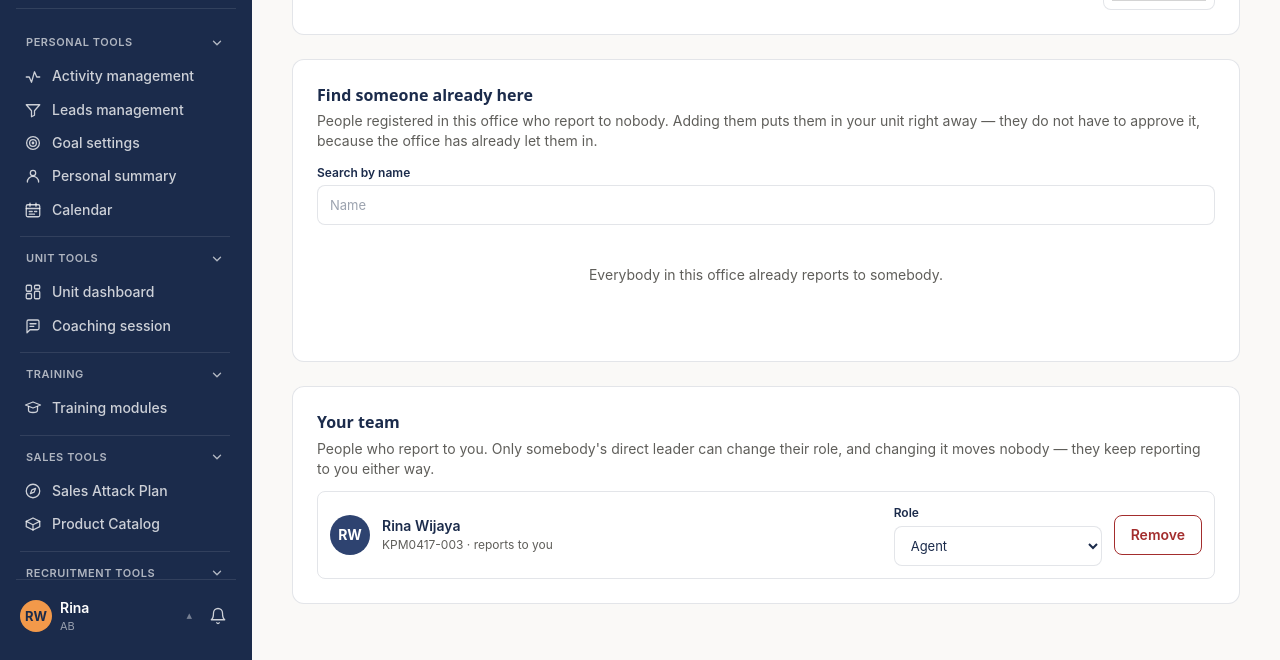
inviting people (P3-T4) › removing somebody (P3-T7) › says what removal does and does not do, in the prototype own words
(page scrolled)
What coordinates should you click on to do the following:
click the button with aria-label "Remove Rina Wijaya"
I would click on:
 (1158, 535)
Its box is [1114, 515, 1202, 555].
(page scrolled)
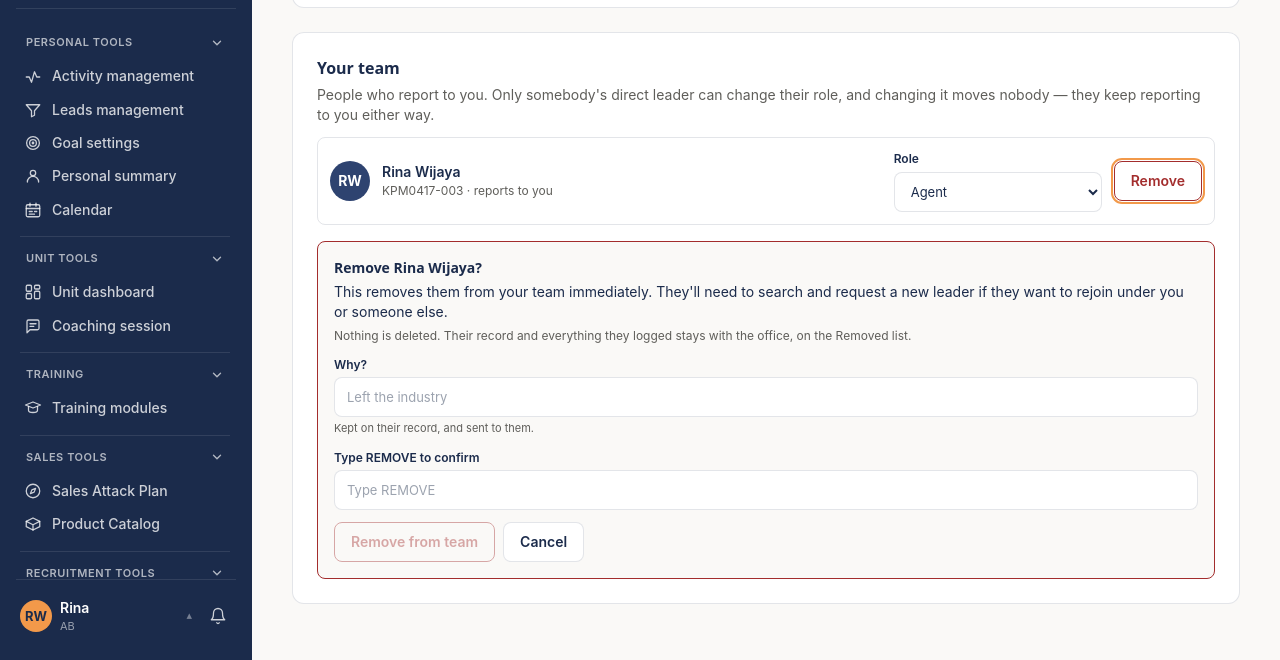
Result: the text "search and request a new leader" is shown at [334, 283, 1184, 320]
Result: the text "Nothing is deleted" is shown at [334, 328, 911, 342]
